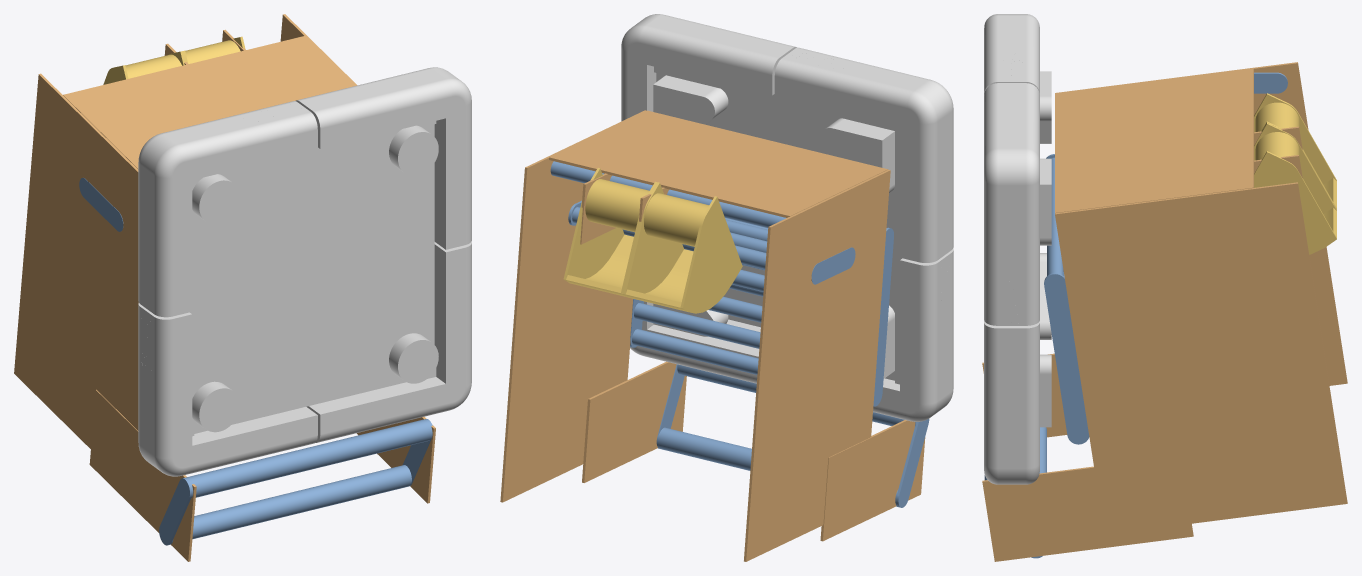
The picture shows the model from 3 angles, left to right: view 1: azimuth 30°, elevation 25°; view 2: azimuth 150°, elevation 25°; view 3: azimuth 270°, elevation 25°; orthographic projection.
Parts seen in each view (by area): view 1: id25, Generic Structure Piece (×5), Horizontal Roller, Fixed Hood Shooter (×2); view 2: Generic Structure Piece (×6), id25, Fixed Hood Shooter (×2), Horizontal Roller (×7); view 3: Generic Structure Piece (×5), id25, Fixed Hood Shooter (×2), Horizontal Roller (×7).
Part boxes in pixels (x1,y1,x2,y2): id25: (138, 67, 471, 476); Generic Structure Piece (×5): (14, 14, 435, 561); Horizontal Roller: (159, 419, 432, 545); Fixed Hood Shooter (×2): (103, 36, 245, 84); Generic Structure Piece (×6): (500, 110, 925, 561); id25: (621, 14, 953, 421); Fixed Hood Shooter (×2): (563, 168, 742, 313); Horizontal Roller (×7): (550, 161, 929, 507); Generic Structure Piece (×5): (982, 62, 1347, 561); id25: (984, 14, 1051, 484); Fixed Hood Shooter (×2): (1254, 93, 1336, 254); Horizontal Roller (×7): (1044, 72, 1287, 444).
Size of the model in its own units: 0.8382 by 1.06 by 0.8316.
